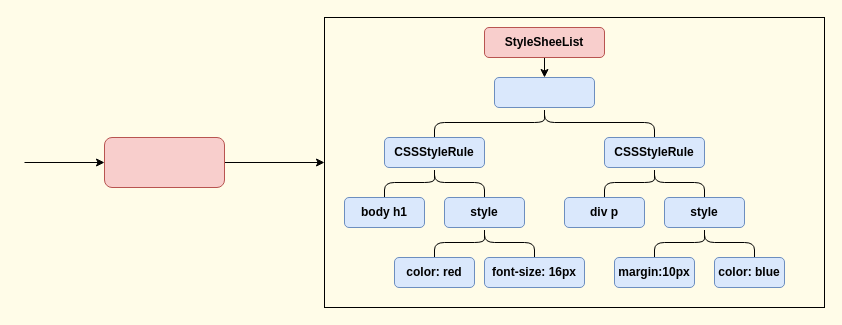
This 842x325 diagram has some shape labels left out. Each missing label, with the centre of its shape:
"CSSStyleSheet" belongs at pixel 544 92.
"解析 CSS" belongs at pixel 164 162.
